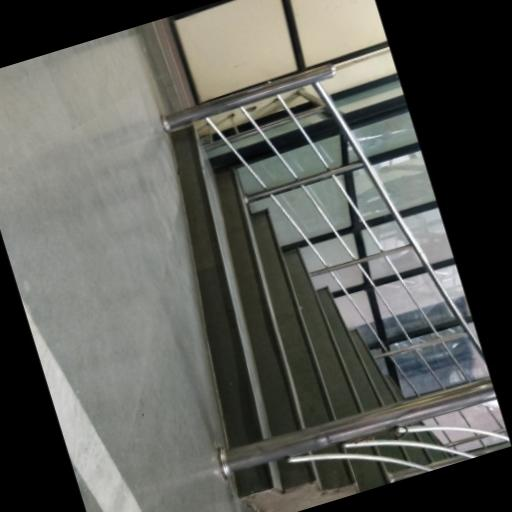stairs: (171, 125, 402, 447)
